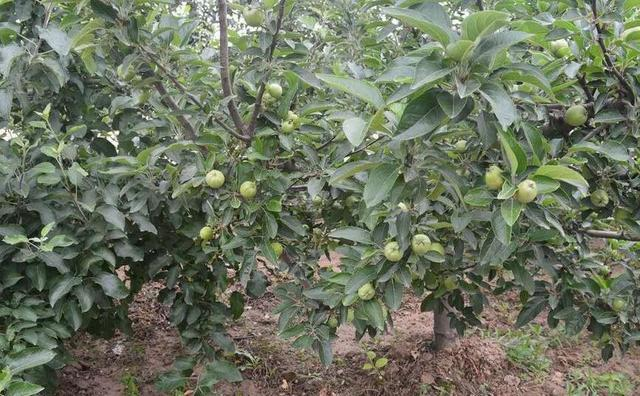apple: (516, 178, 538, 202), (565, 104, 588, 126), (484, 165, 504, 190), (205, 169, 225, 187)
